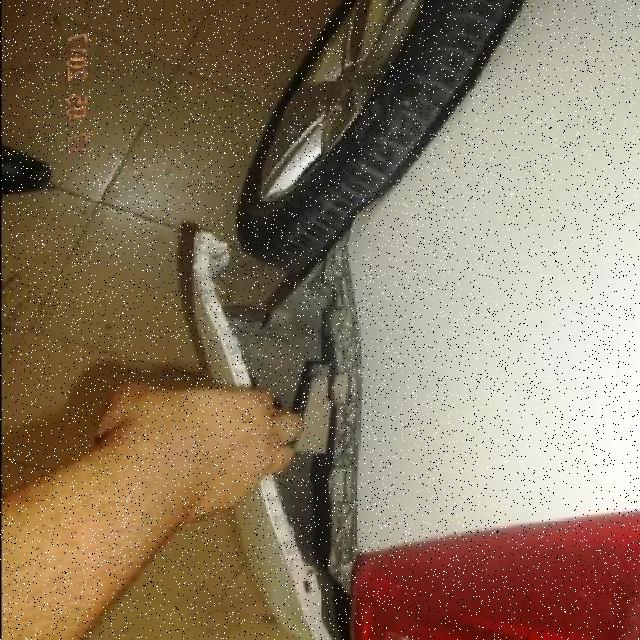damage: (193, 218, 357, 638)
